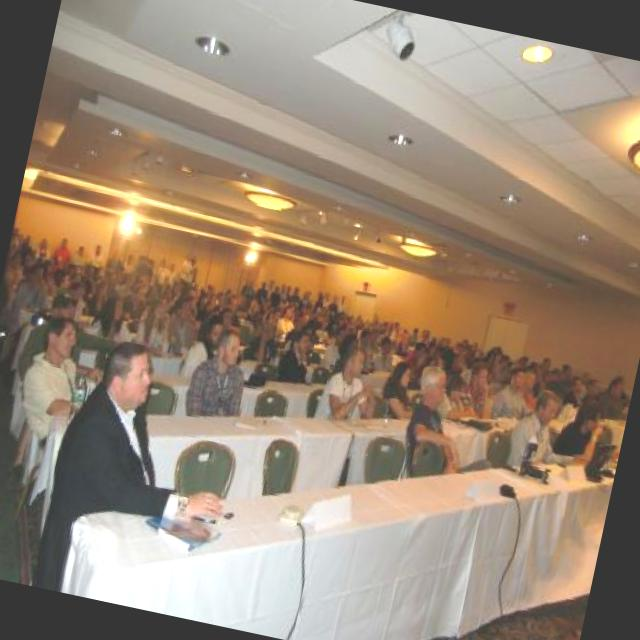Person: (0, 217, 640, 640), (28, 330, 258, 620)
